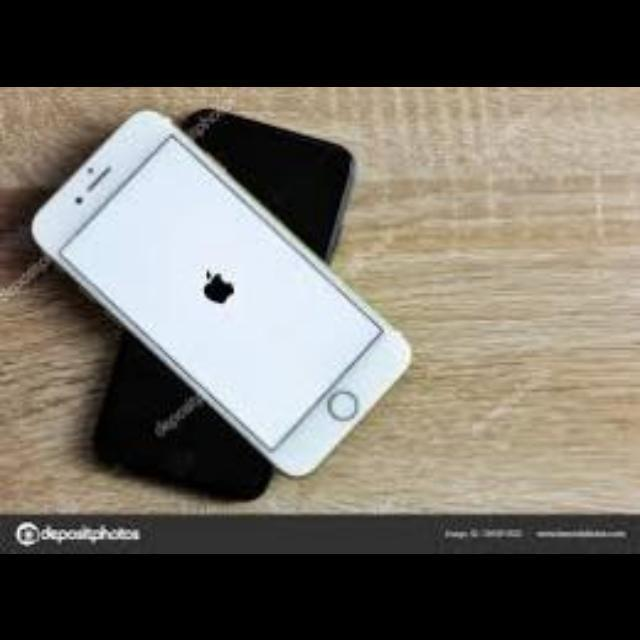phone: (16, 103, 356, 507)
